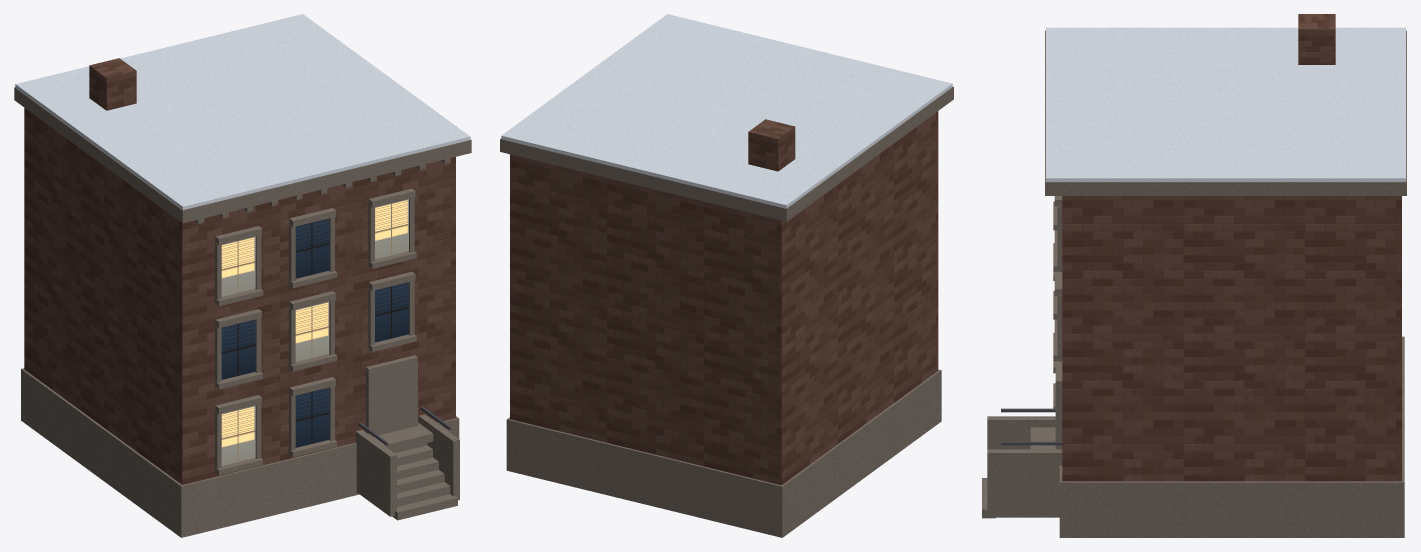
The model's file is nyc_brownstone.glb.
3 renders of one model, left to right at view 1: azimuth 30°, elevation 25°; view 2: azimuth 150°, elevation 25°; view 3: azimuth 270°, elevation 25°, orthographic. The views are drawn at different scales.
Visible parts, largest first — view 1: nyc_brownstone.glb; view 2: nyc_brownstone.glb; view 3: nyc_brownstone.glb.
Part boxes in pixels (x1=…): nyc_brownstone.glb: x1=14, y1=14, x2=471, y2=537; nyc_brownstone.glb: x1=500, y1=14, x2=953, y2=537; nyc_brownstone.glb: x1=982, y1=14, x2=1406, y2=537.
Bounding box in the file's own units: 10.55 × 12.9 × 12.51.
7 materials, 6 textured.
